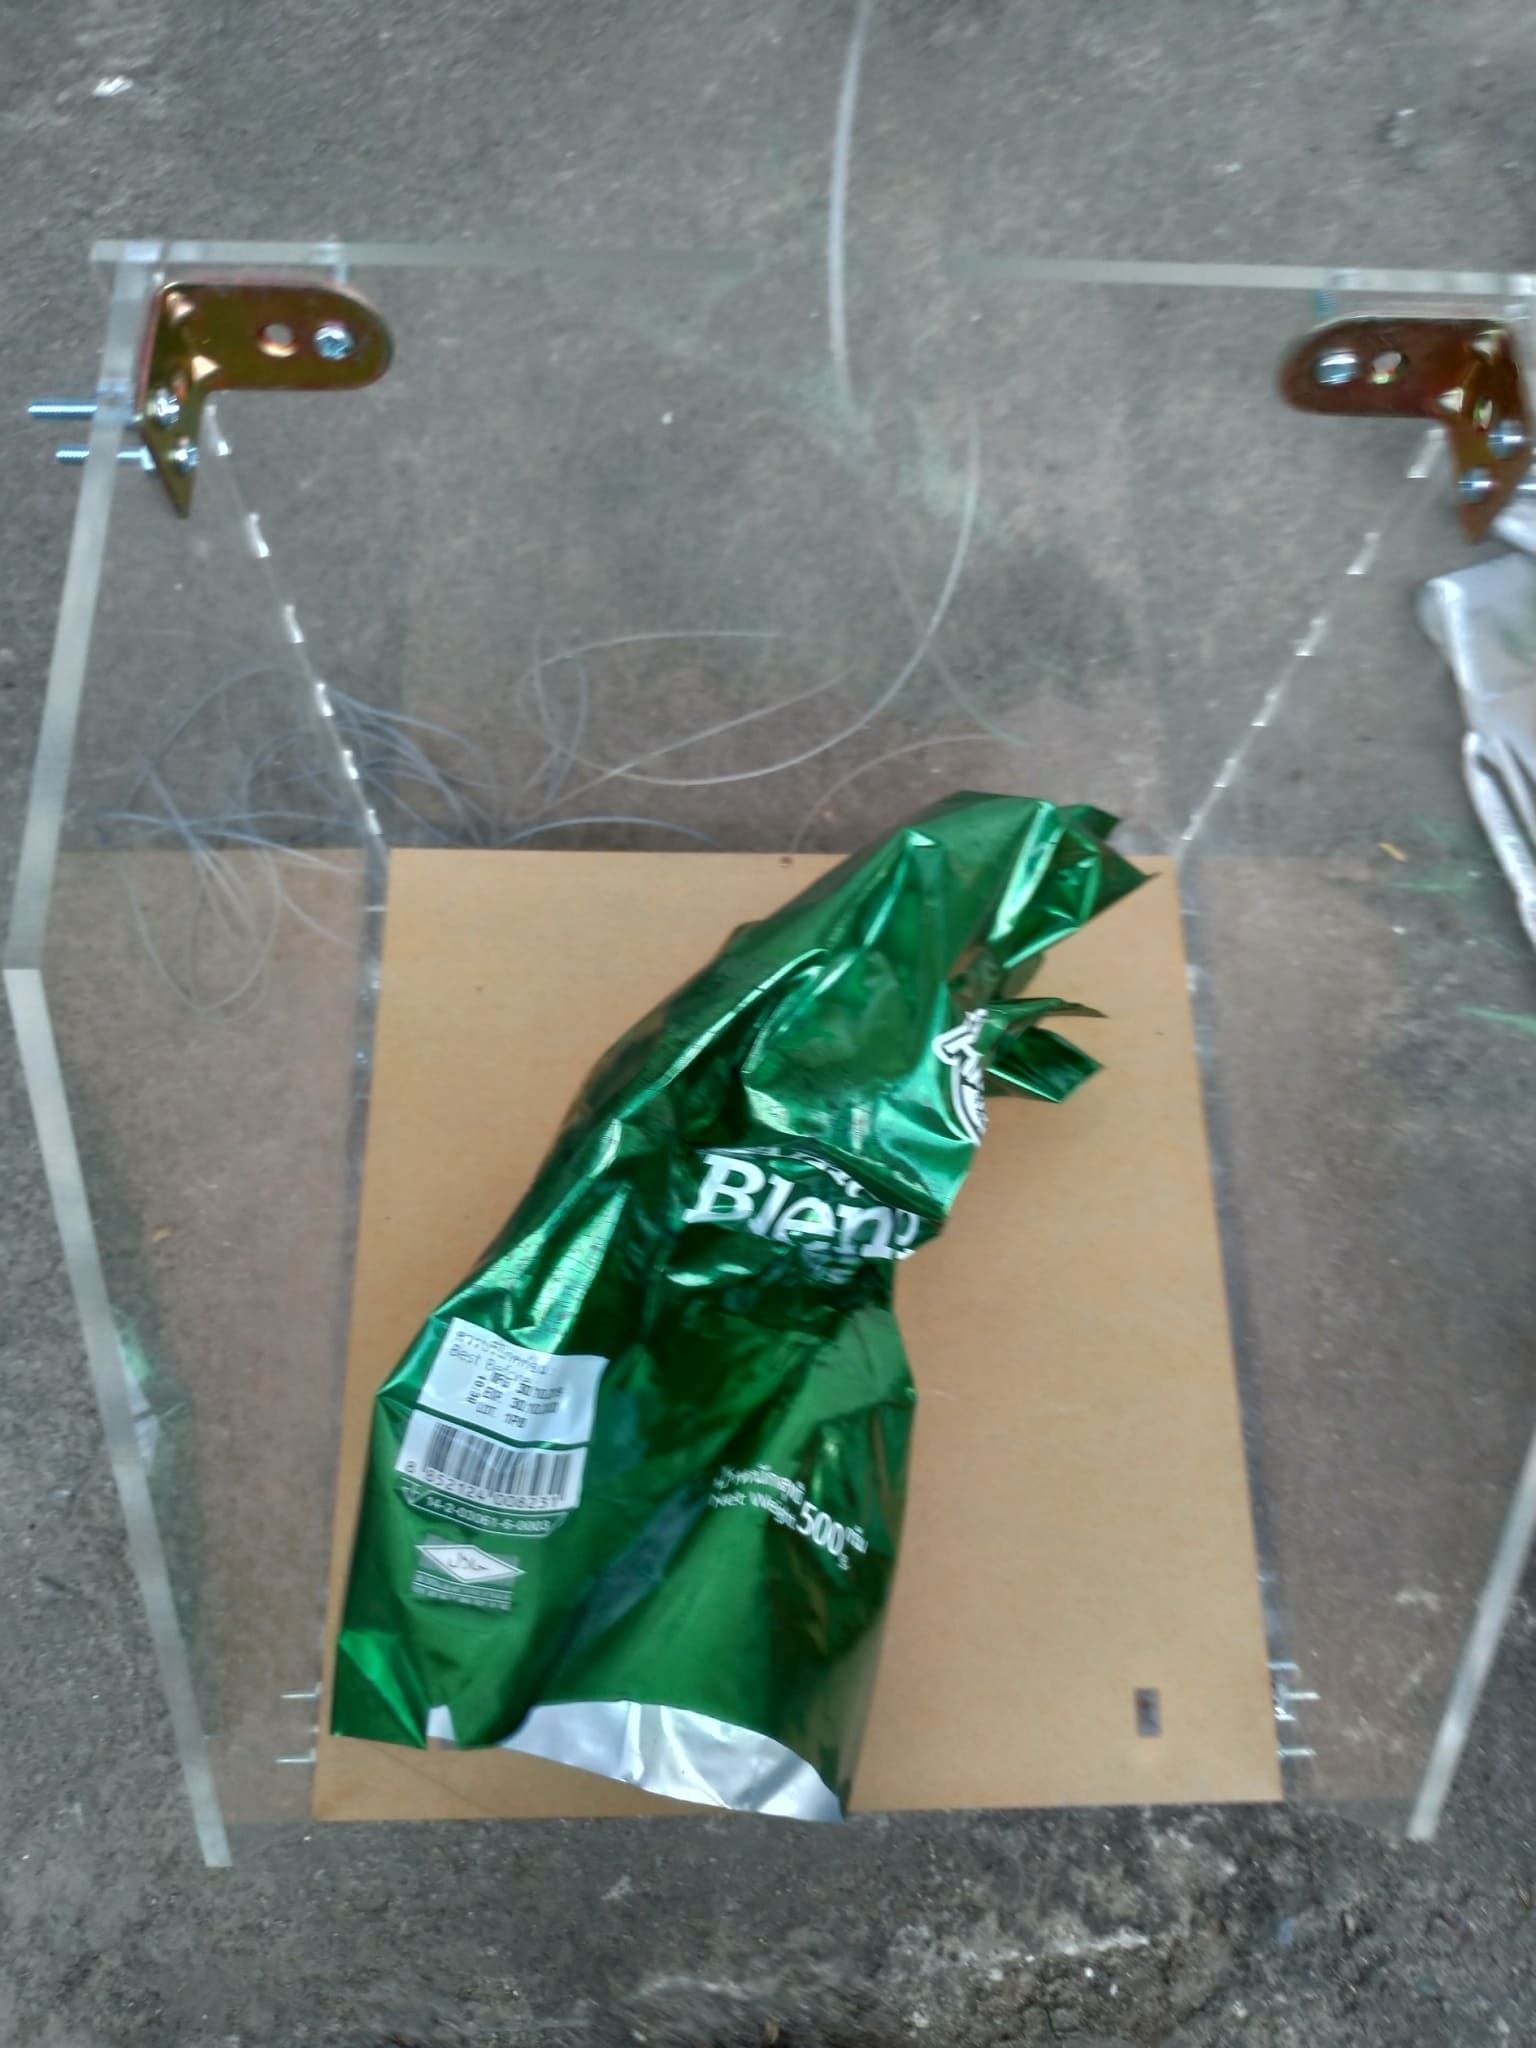Others: (329, 789, 1133, 1817)
